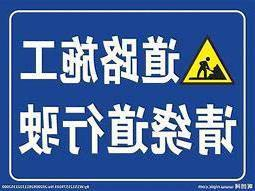sign: (8, 8, 247, 183)
